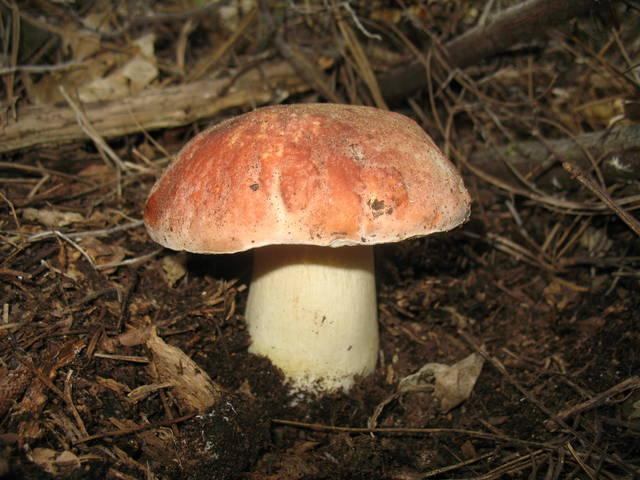edible_mushroom: (142, 101, 472, 406)
